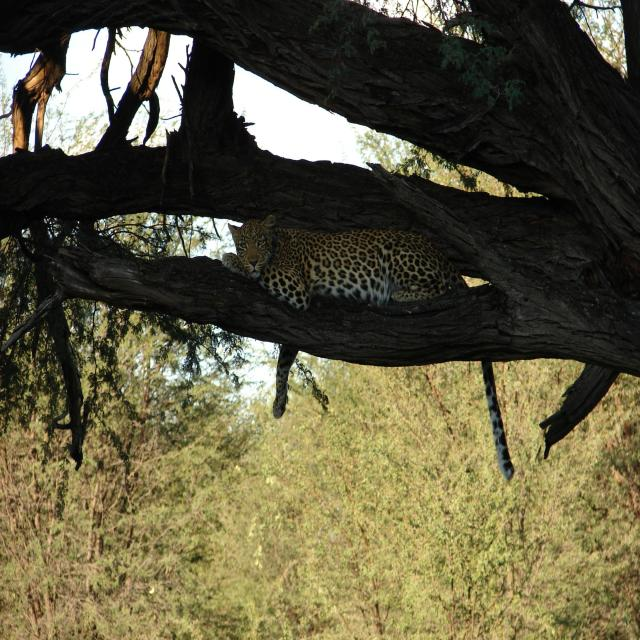Leopard: (224, 201, 524, 478)
